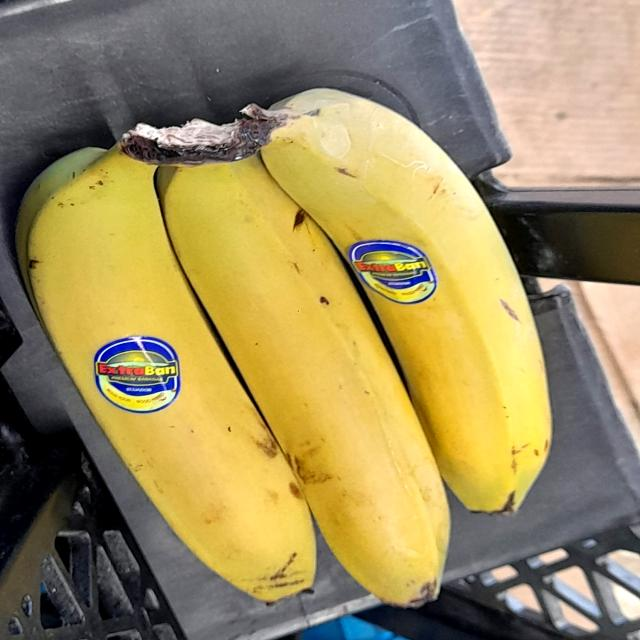banana: (32, 70, 560, 630)
